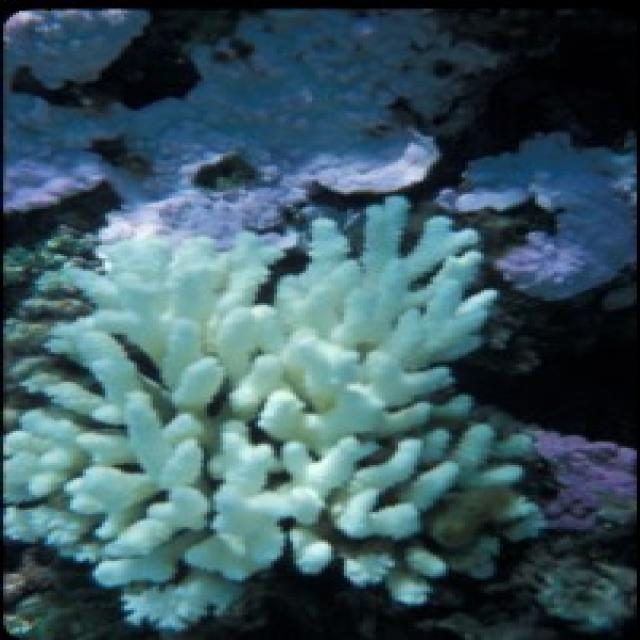Bleached: (7, 234, 284, 607), (275, 197, 495, 413), (278, 423, 536, 586)
Healthy: (7, 10, 514, 234), (440, 133, 631, 300), (530, 430, 635, 530)
